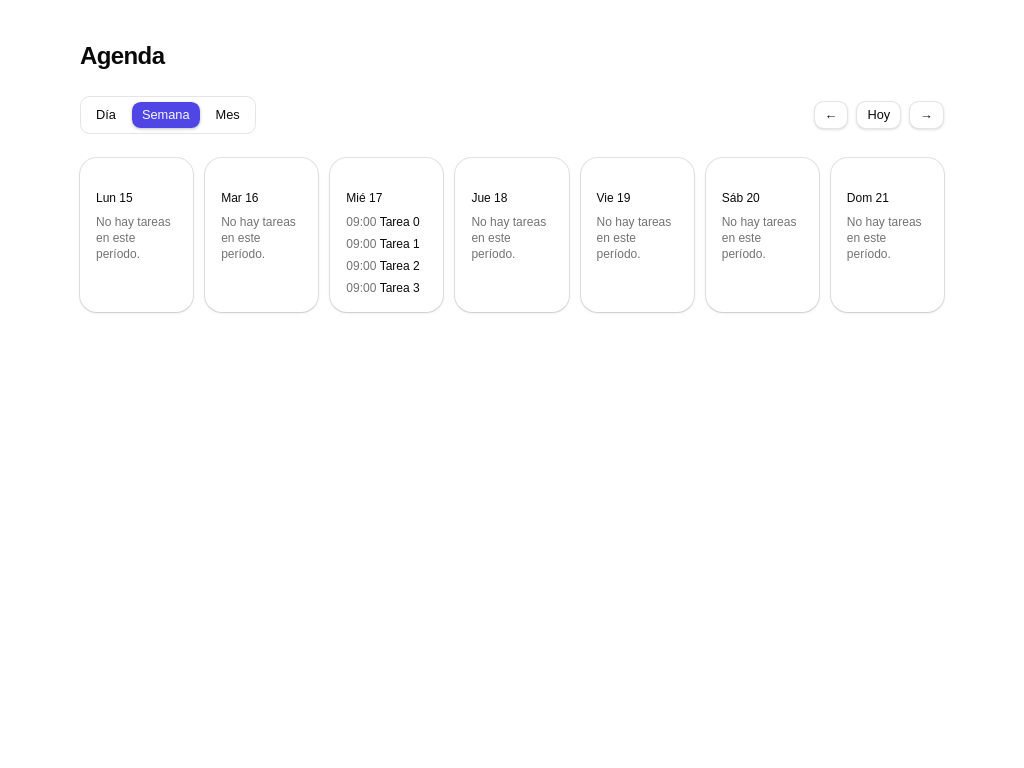
it: PaginaAgenda › en la vista de mes, un día con más de 3 tareas muestra cuántas quedan sin listar
Click the button "Mes": (228, 115) x1=205 y1=101 x2=251 y2=129
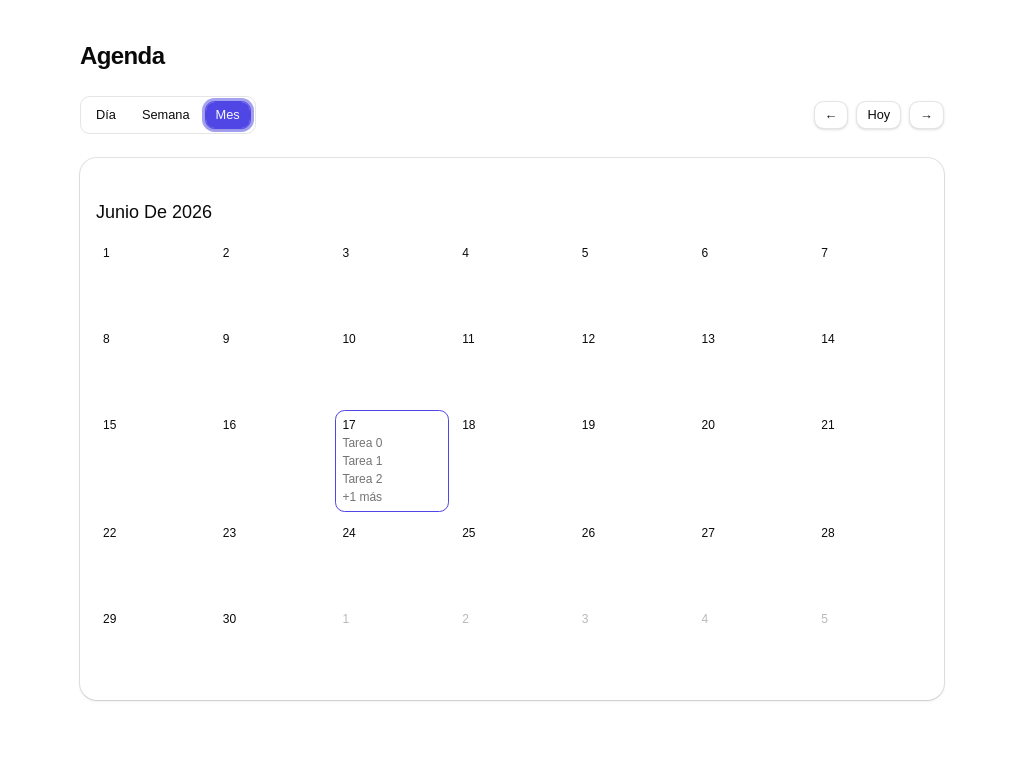
Expected: the text "+1 más" is shown, x1=342 y1=489 x2=382 y2=505
